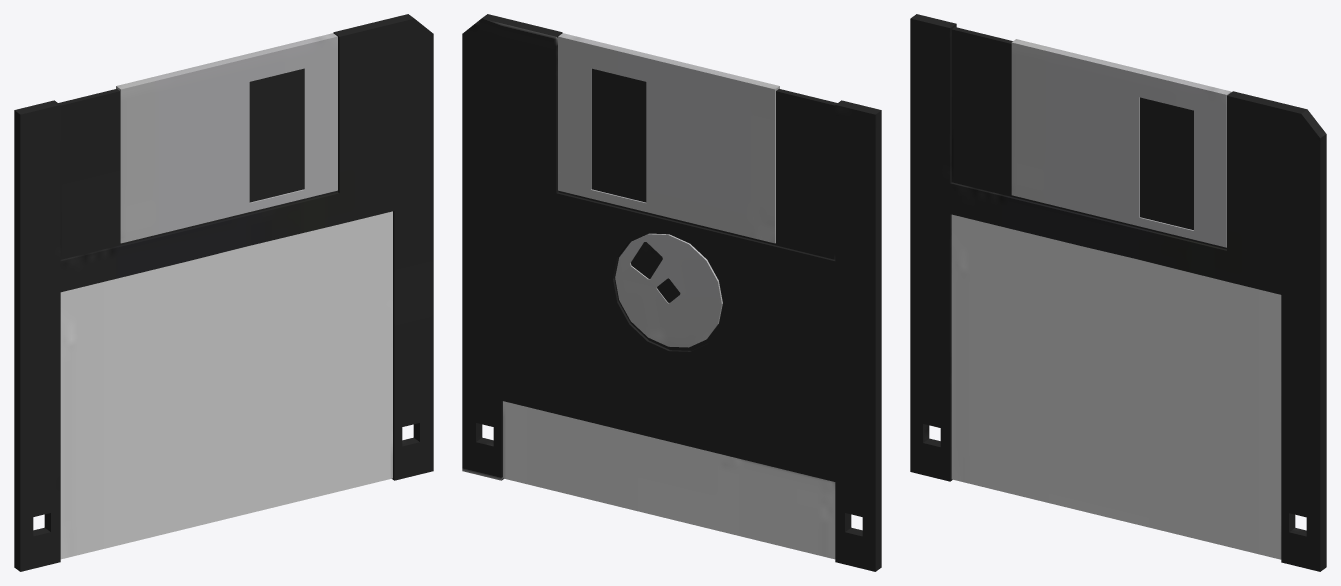
The model's file is floppy.glb.
3 renders of one model, left to right at view 1: azimuth 30°, elevation 25°; view 2: azimuth 150°, elevation 25°; view 3: azimuth 330°, elevation 25°, orthographic.
Visible parts, largest first — view 1: FloppyDisk, FloppyDiskCap; view 2: FloppyDisk, FloppyDiskCap; view 3: FloppyDisk, FloppyDiskCap.
Boxes of the visible parts, x1,y1,x2,y2 form: FloppyDisk: (14, 14, 433, 571); FloppyDiskCap: (116, 33, 337, 243); FloppyDisk: (462, 14, 881, 571); FloppyDiskCap: (558, 33, 779, 243); FloppyDisk: (910, 14, 1326, 571); FloppyDiskCap: (1011, 39, 1231, 247).
Bounding box in the file's own units: 8.89 × 9.4 × 0.2352.
Materials: 1 (1 with a texture image).
